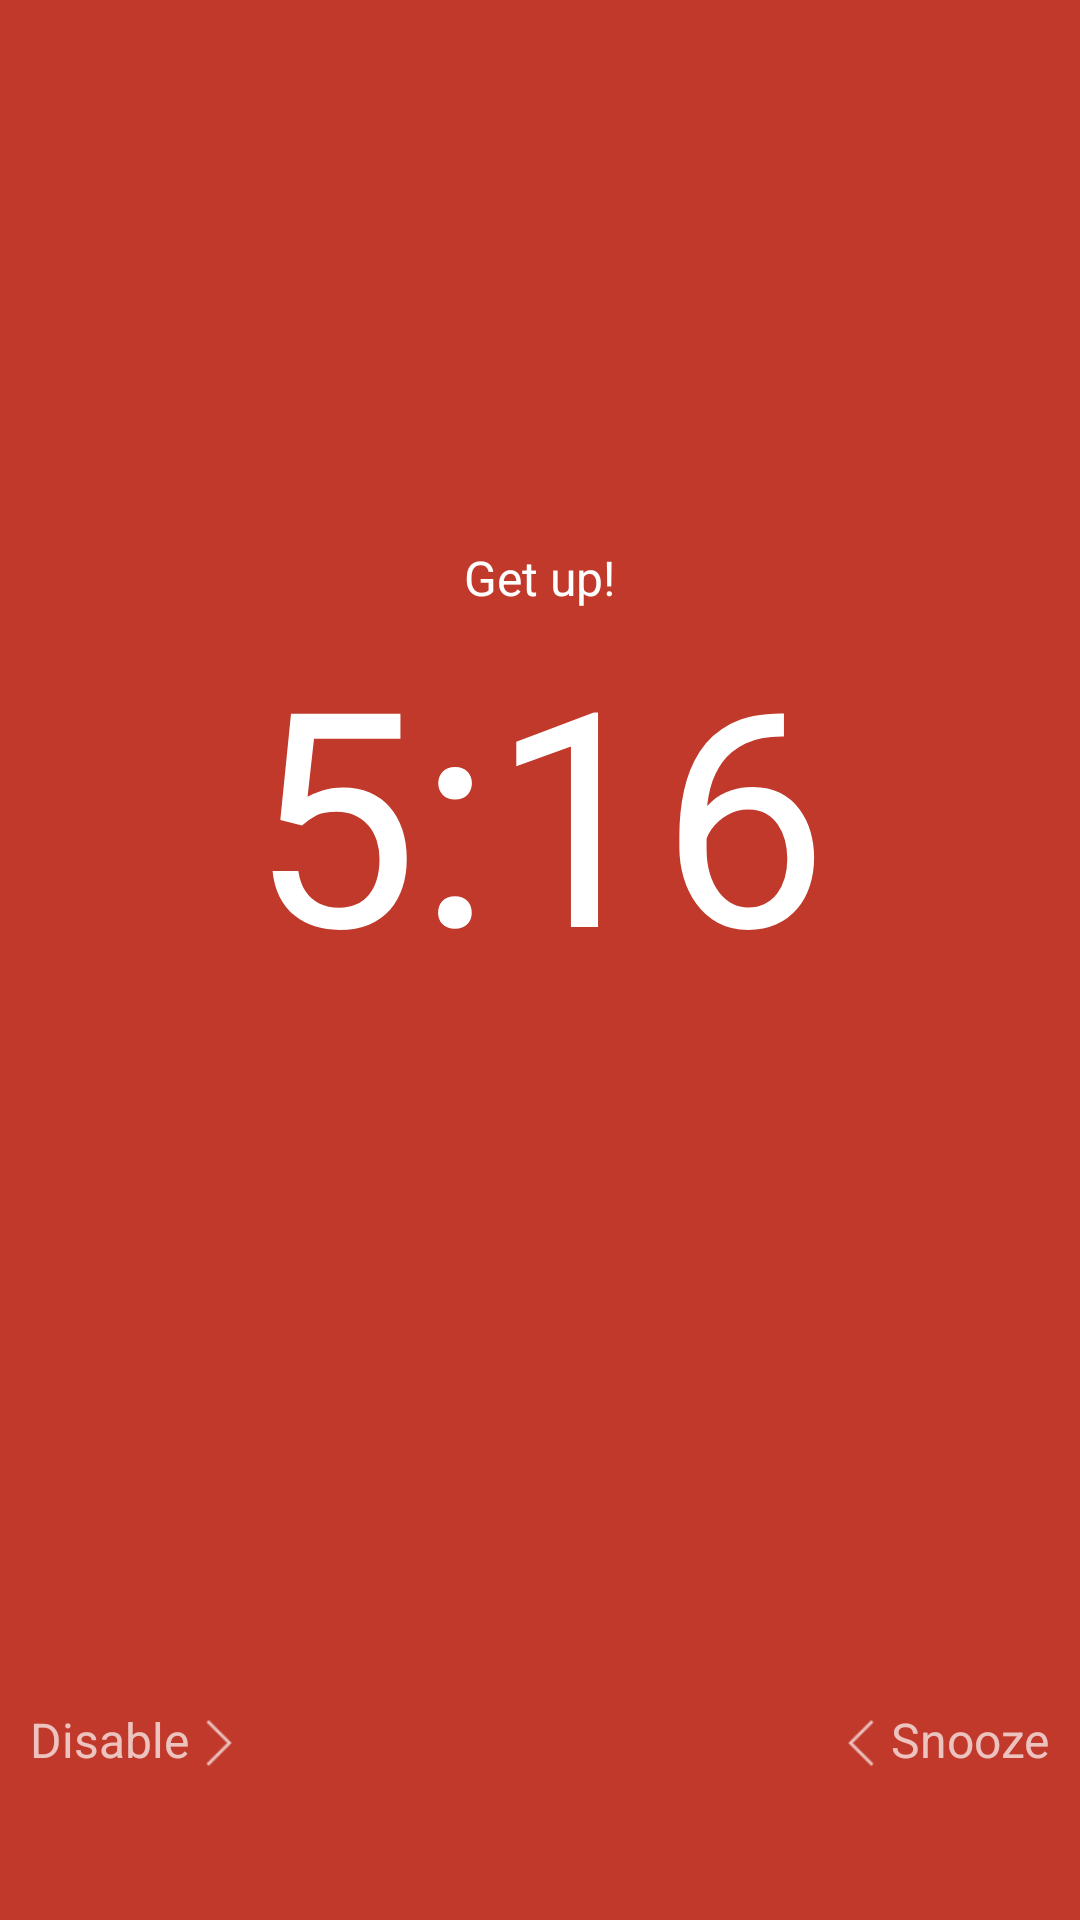

Icons on this 1080px x 1920px Android screen, each with its box as (x1, y1, x2, y2):
arrow left: (848, 1720, 874, 1766)
arrow right: (206, 1720, 232, 1766)
